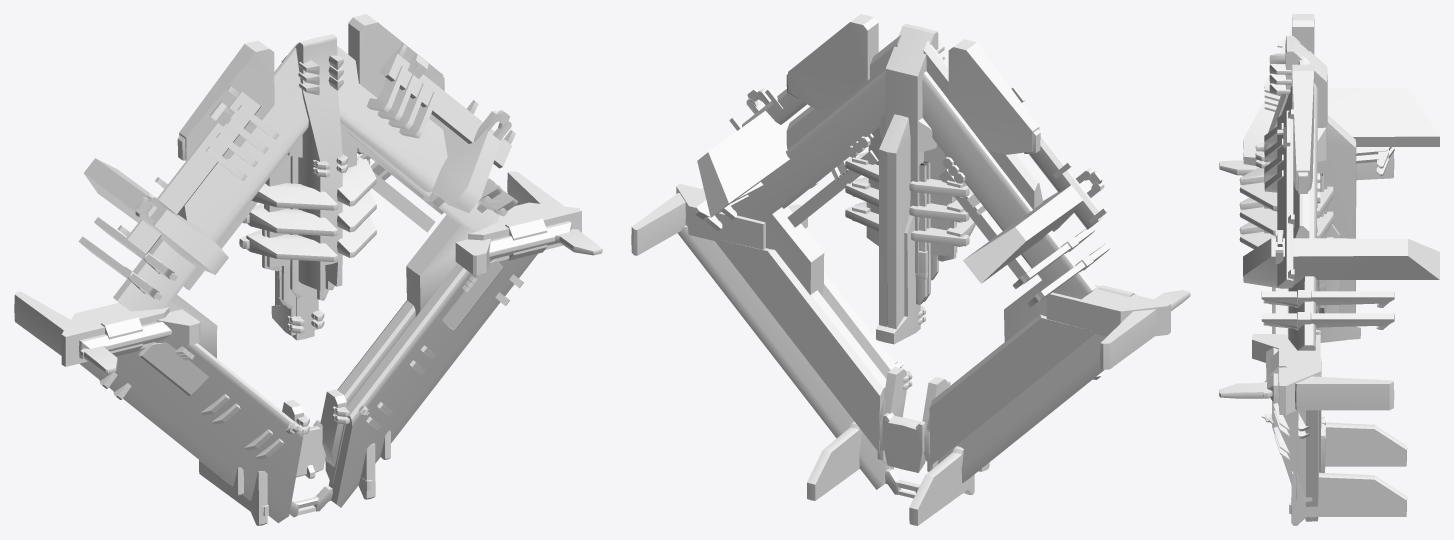
The model's file is lv4_stions.fbx.
3 renders of one model, left to right at view 1: azimuth 30°, elevation 25°; view 2: azimuth 150°, elevation 25°; view 3: azimuth 270°, elevation 25°, orthographic. The views are drawn at different scales.
Parts seen in each view (by area): view 1: yaosai:transform1; view 2: yaosai:transform1; view 3: yaosai:transform1.
Boxes of the visible parts, x1=… form: yaosai:transform1: x1=14, y1=14, x2=602, y2=525; yaosai:transform1: x1=631, y1=14, x2=1190, y2=525; yaosai:transform1: x1=1219, y1=14, x2=1439, y2=525.
Bounding box in the file's own units: 54.3 × 48.63 × 20.91.
1 material, 1 textured.
